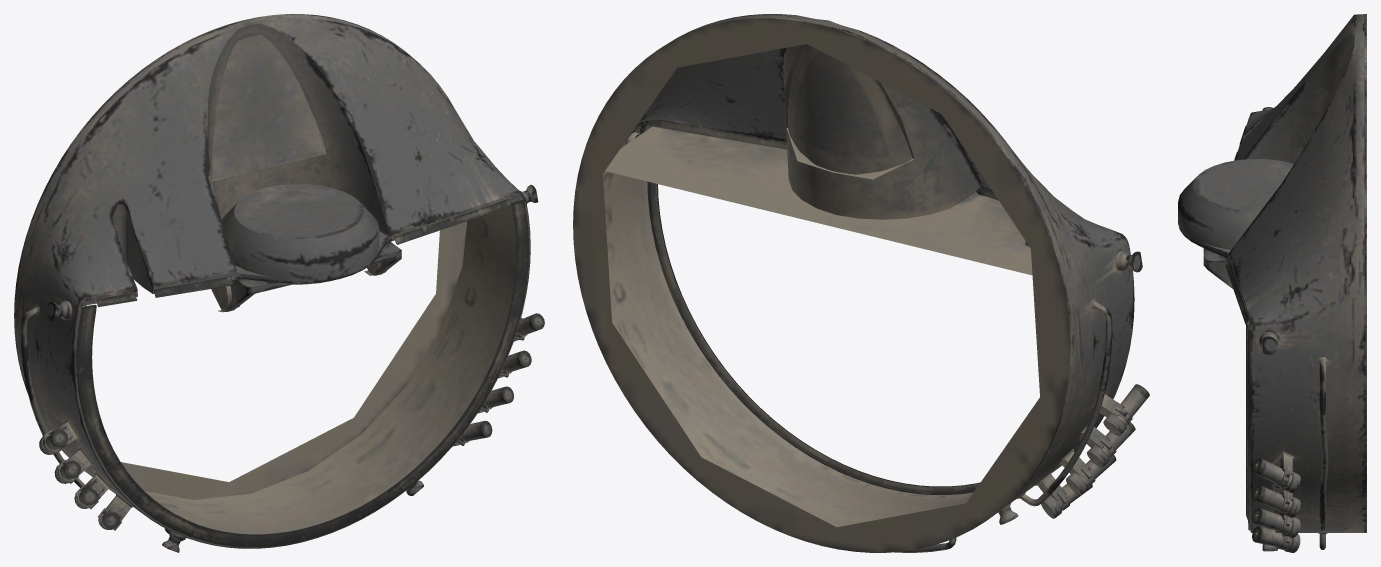
Rendered from Turret_01.glb.
3 views of the same model, side by side, from view 1: azimuth 30°, elevation 25°; view 2: azimuth 150°, elevation 25°; view 3: azimuth 270°, elevation 25° (orthographic). The views are drawn at different scales.
Parts seen in each view (by area): view 1: set_0_group_0; view 2: set_0_group_0; view 3: set_0_group_0.
Boxes of the visible parts, bbox=[...] form: set_0_group_0: bbox=[14, 14, 544, 552]; set_0_group_0: bbox=[573, 14, 1149, 552]; set_0_group_0: bbox=[1178, 14, 1366, 552].
Size of the model in its own units: 3.01 by 2.89 by 1.02.
1 material, 1 textured.
